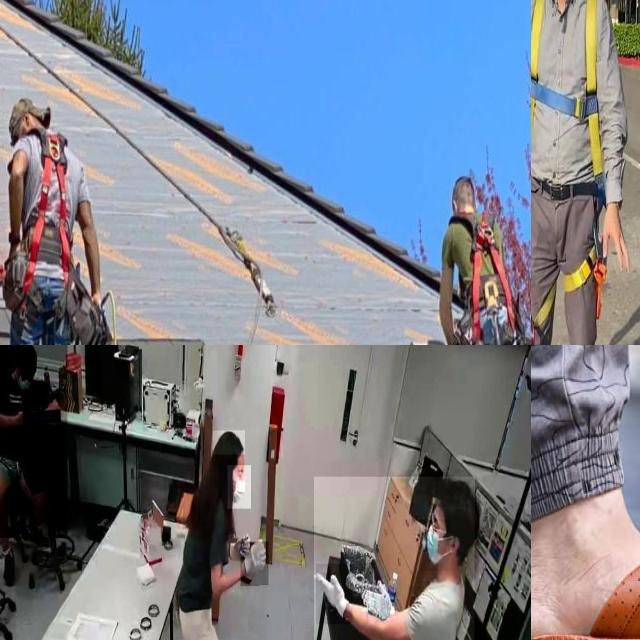Harness: (531, 0, 603, 178), (15, 135, 75, 345), (462, 210, 519, 345), (531, 252, 607, 345)
Sandals: (531, 497, 640, 640)
face_mask: (419, 519, 448, 571), (227, 465, 251, 509), (13, 364, 35, 396)
hand_glove: (316, 564, 352, 624), (241, 542, 269, 586)
hand_noglove: (12, 408, 26, 429)
head_nohelmet: (435, 477, 480, 508), (213, 430, 245, 456)
person: (314, 476, 475, 640), (171, 428, 260, 640), (0, 345, 68, 539)
